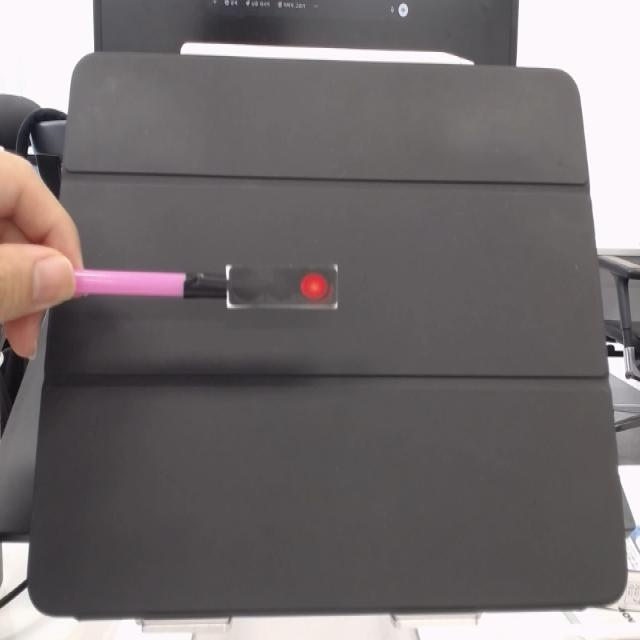traffic light: (222, 265, 339, 313)
